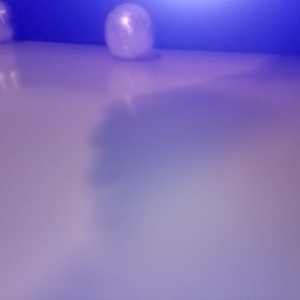alive_ball: (104, 2, 155, 60), (1, 1, 14, 42)
